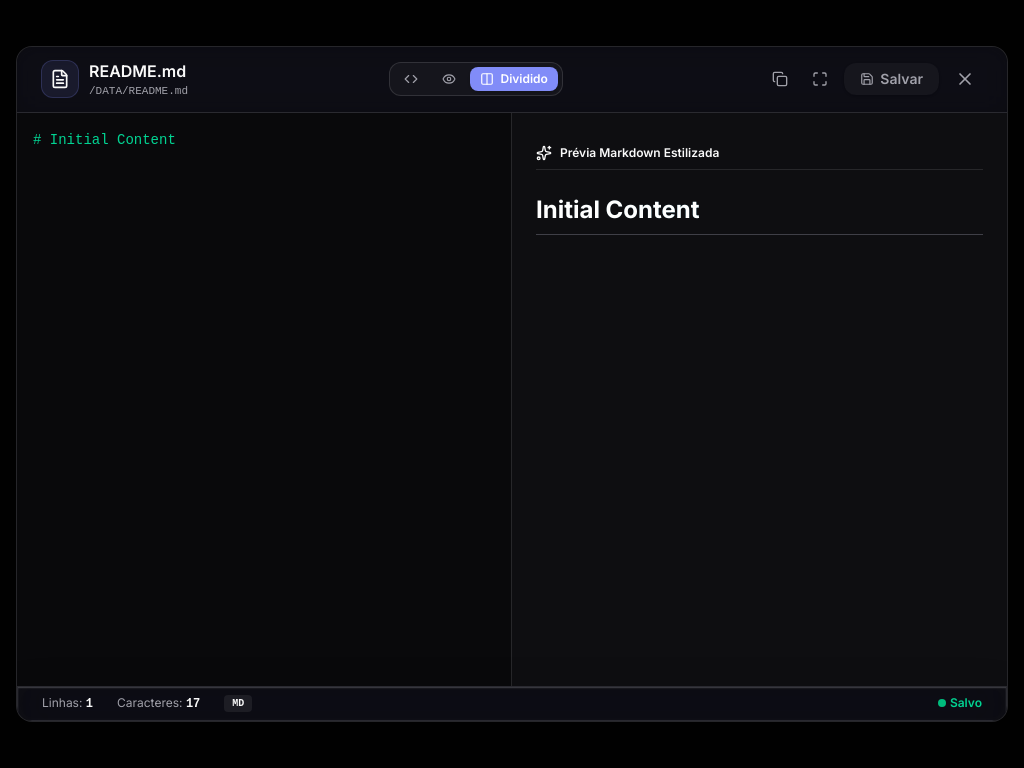
Test: TextEditorModal Component › handles 412 conflict and allows force overwrite
Replace the text in the text box with test id "text-editor-area" with "# My Local Edit" at (264,399), box [17,113,511,686]
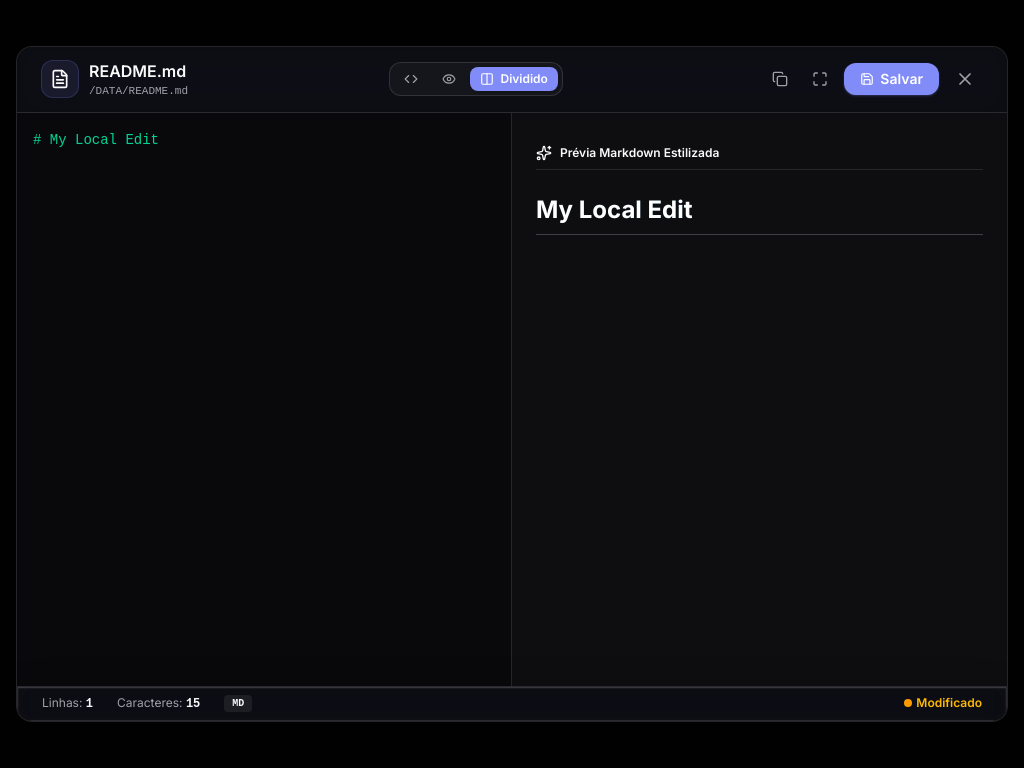
Click the button with test id "save-text-btn" at (892,79), box [844,63,939,95]
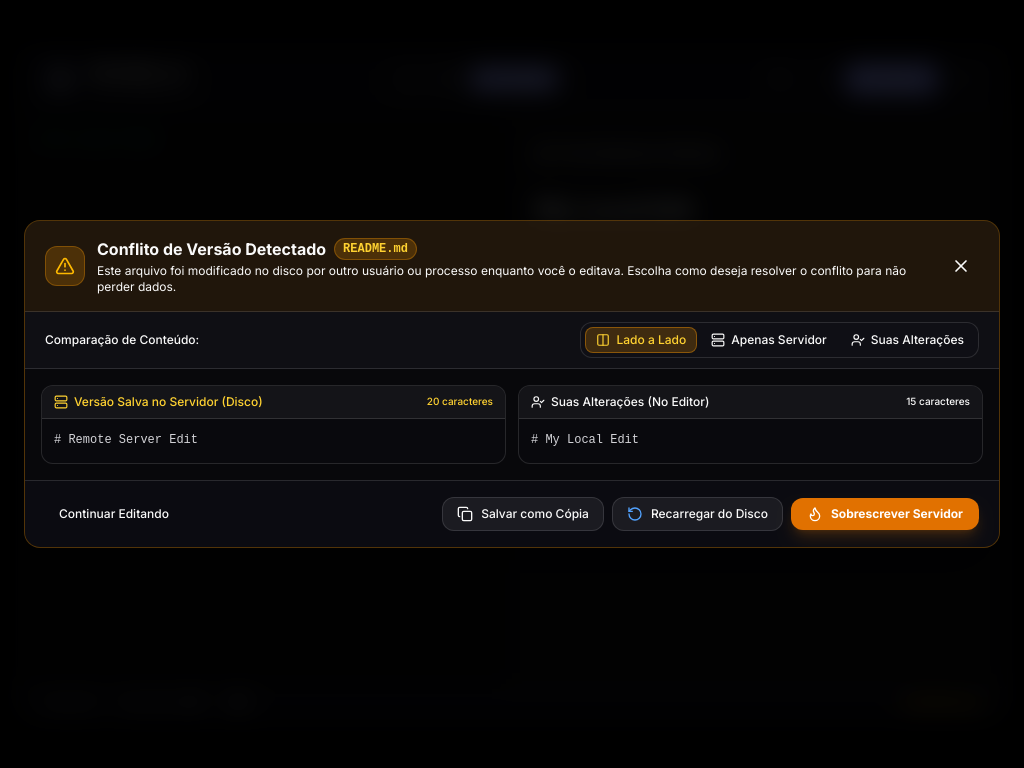
Check: the text "Conflito de Versão Detectado" is shown, box [97,237,326,261]
# Click Force Overwrite
Click the button "Sobrescrever Servidor" at (885,514), box [791,498,979,530]
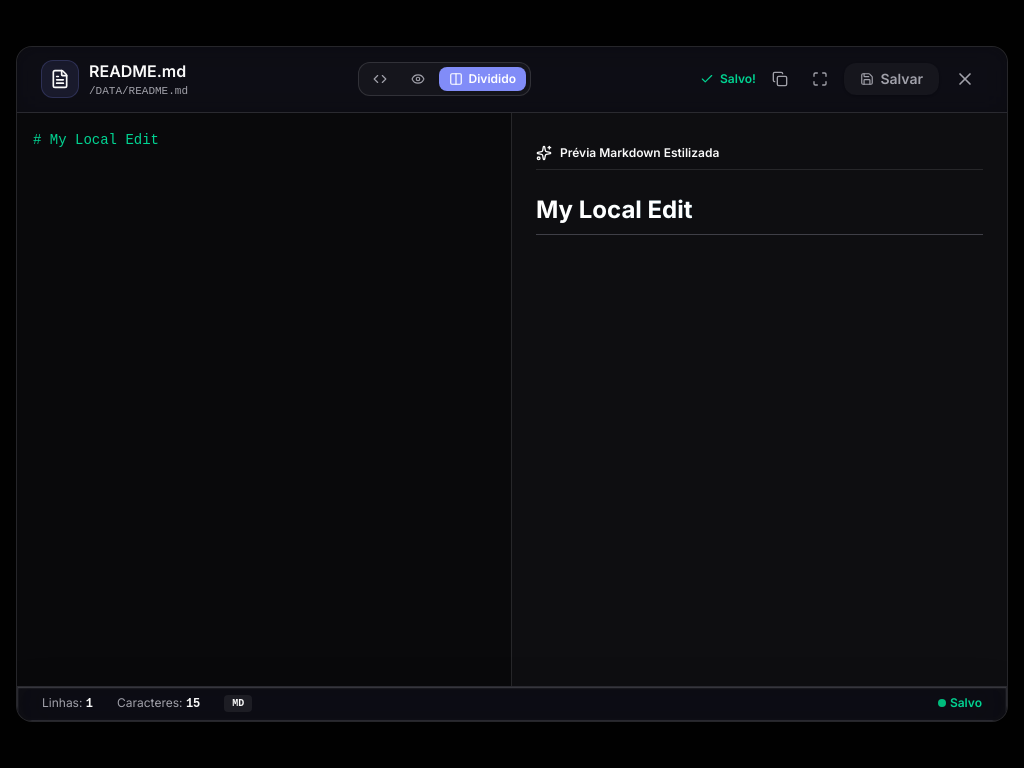
Check: the text "Conflito de Versão Detectado" is gone
